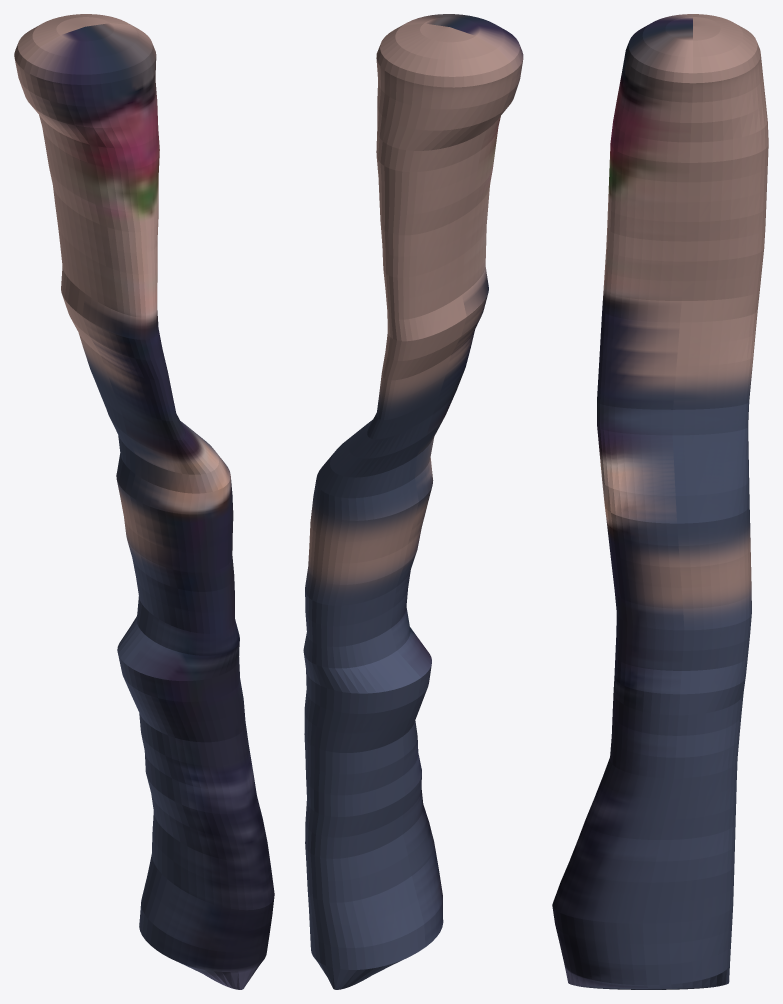
Rendered from subject_leg_l.obj.
3 renders of one model, left to right at view 1: azimuth 30°, elevation 25°; view 2: azimuth 150°, elevation 25°; view 3: azimuth 270°, elevation 25°, orthographic. The views are drawn at different scales.
Parts seen in each view (by area): view 1: subject_leg_l; view 2: subject_leg_l; view 3: subject_leg_l.
Part boxes in pixels (x1,y1,x2,y2): subject_leg_l: [14, 14, 274, 989]; subject_leg_l: [303, 14, 523, 989]; subject_leg_l: [552, 14, 768, 989].
Bounding box in the file's own units: 0.2161 × 0.9579 × 0.2052.
Materials: 1 (1 with a texture image).
